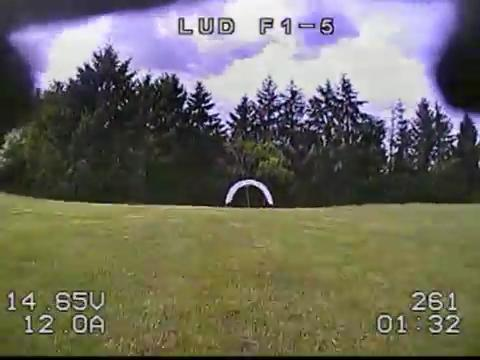gate: (225, 178, 272, 208)
